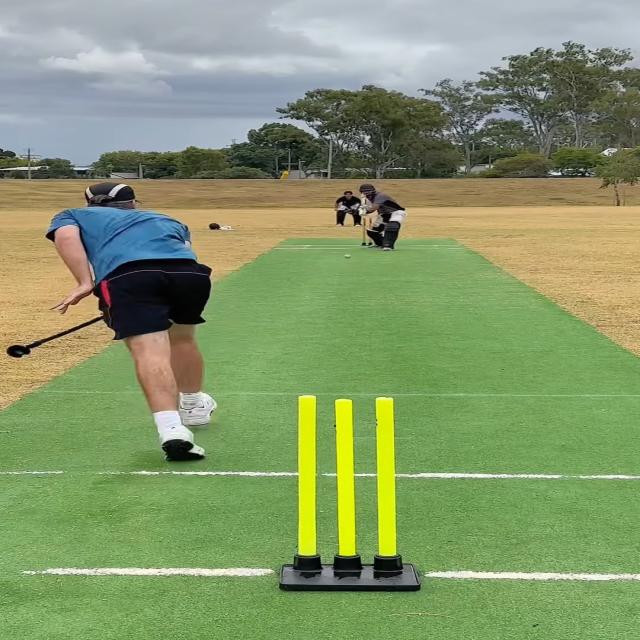ball: (342, 253, 353, 260)
stump: (271, 390, 424, 593), (362, 218, 376, 245)
